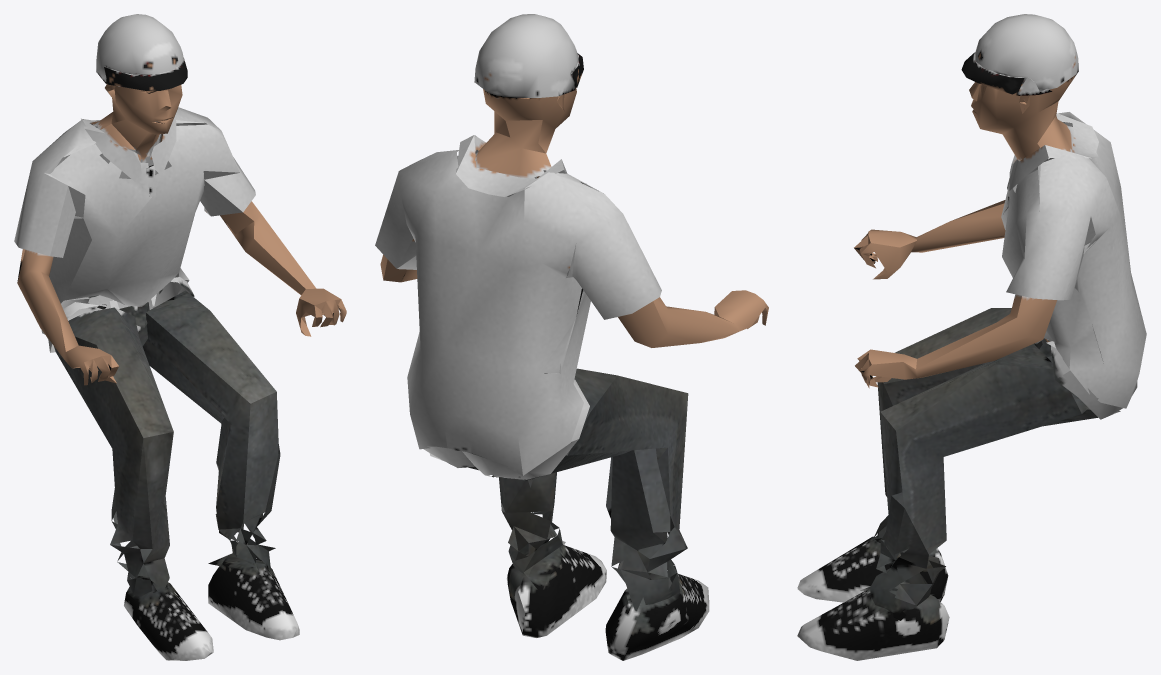
The model's file is SM_Rider_M.fbx.
3 views of the same model, side by side, from view 1: azimuth 30°, elevation 25°; view 2: azimuth 150°, elevation 25°; view 3: azimuth 270°, elevation 25° (orthographic). The views are drawn at different scales.
Parts seen in each view (by area): view 1: SM_Rider_M_LOD0; view 2: SM_Rider_M_LOD0; view 3: SM_Rider_M_LOD0.
Boxes of the visible parts, left/top/right/bottom form: SM_Rider_M_LOD0: left=14, top=14, right=346, bottom=660; SM_Rider_M_LOD0: left=375, top=14, right=768, bottom=660; SM_Rider_M_LOD0: left=797, top=14, right=1146, bottom=660.
Size of what is drawn, in the model's own units: 0.6809 by 1.4 by 0.7283.
